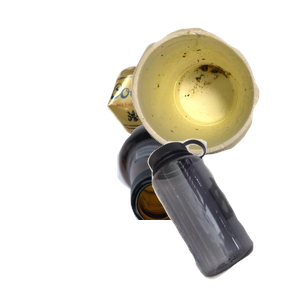glass: (115, 120, 300, 300)
metal: (105, 63, 300, 192)
plastic: (145, 136, 300, 300)
trash: (129, 25, 300, 173)
